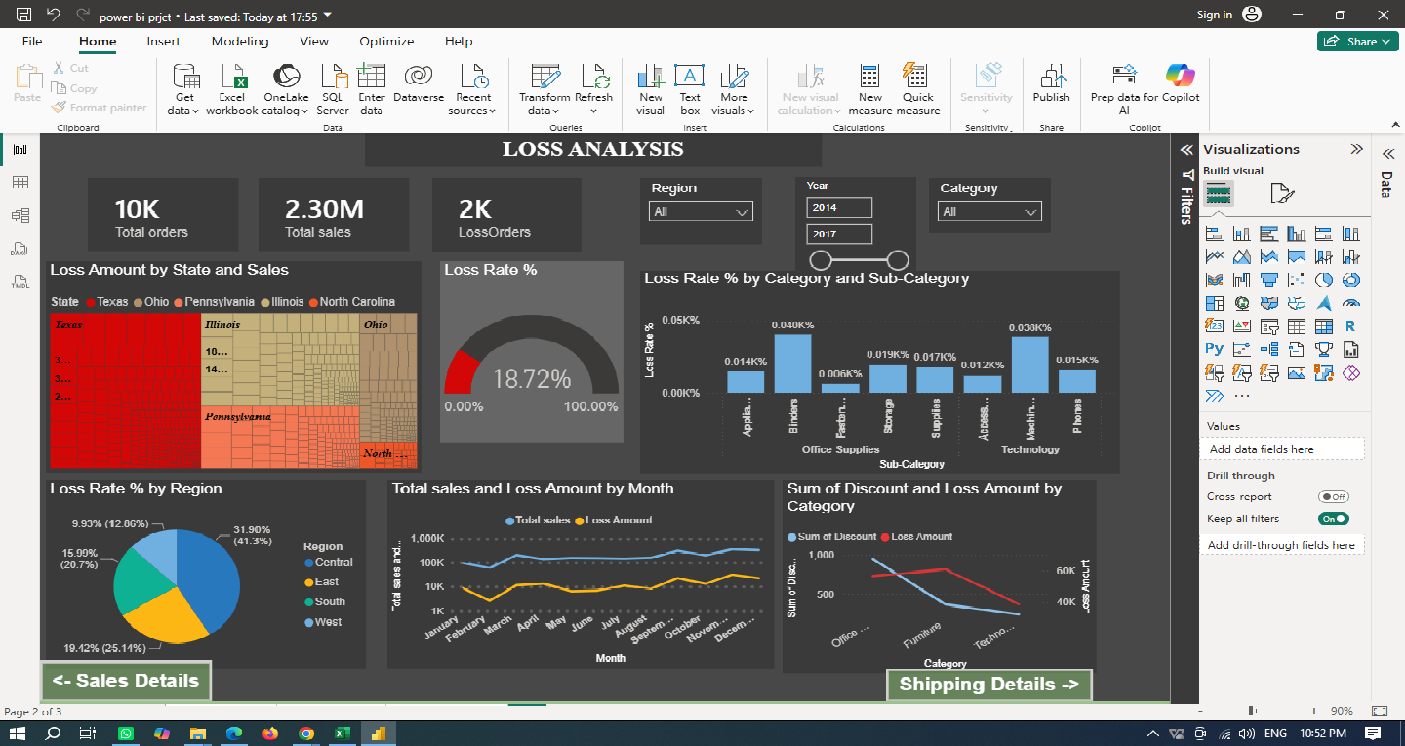

The dashboard page shown, as its layout file describes it:
{"tool":"powerbi","page":{"name":"Loss Analysis","canvas":[1280,720],"ordinal":1},"visuals":[{"type":"cardVisual","fields":{"Data":["Measure Table.Total orders"]},"box":[55,56.2,171.5,93.4],"z":0},{"type":"cardVisual","fields":{"Data":["Measure Table.Total sales"]},"box":[247.5,56.2,171.5,93.4],"z":1000},{"type":"cardVisual","fields":{"Data":["Measure Table.LossOrders"]},"box":[443.8,56.2,168.8,93.8],"z":2000},{"type":"clusteredColumnChart","fields":{"Category":["Cleared Data.Category","Cleared Data.Sub-Category"],"Y":["Measure Table.Loss Rate %"]},"box":[680,175,543.8,257.5],"z":3000},{"type":"treemap","fields":{"Group":["Cleared Data.State"],"Details":["Cleared Data.Sales"],"Values":["Measure Table.Loss Amount"]},"box":[6.2,163.8,425,267.5],"z":4000},{"type":"pieChart","fields":{"Category":["Cleared Data.Region"],"Y":["Measure Table.Loss Rate %"]},"box":[6.2,441.2,362.5,237.5],"z":5000},{"type":"lineChart","fields":{"Category":["Cleared Data.Order Date.Variation.Date Hierarchy.Month"],"Y":["Measure Table.Total sales","Measure Table.Loss Amount"]},"box":[393.8,441.2,437.5,237.5],"z":6000},{"type":"slicer","fields":{"Values":["Cleared Data.Year"]},"box":[855.5,56.1,136.4,118.6],"z":7000},{"type":"slicer","fields":{"Values":["Cleared Data.Category"]},"box":[1007.5,56.2,137.5,70],"z":8000},{"type":"slicer","fields":{"Values":["Cleared Data.Region"]},"box":[680,56.2,137.5,85],"z":9000},{"type":"textbox","box":[368.8,0,517.5,42.5],"z":10000},{"type":"lineChart","fields":{"Category":["Cleared Data.Category"],"Y":["Sum(Cleared Data.Discount)"],"Y2":["Measure Table.Loss Amount"]},"box":[841.2,441.2,356.2,243.8],"z":11000},{"type":"gauge","fields":{"Y":["Measure Table.Loss Rate %"]},"box":[452.6,163.2,207.8,229.5],"z":12000},{"type":"actionButton","box":[958.8,678.8,235,41.2],"z":13000},{"type":"actionButton","box":[0,668.8,195,51.2],"z":14000}]}

Visuals, with their boxes on the page's 1280x720 design canvas (x1, y1, x2, y2). These are canvas units, not pixel positions in the 1405x746 screenshot, which may show the page scaled, cropped or inside an application window:
cardVisual - Measure Table.Total orders: 55, 56, 226, 150
cardVisual - Measure Table.Total sales: 248, 56, 419, 150
cardVisual - Measure Table.LossOrders: 444, 56, 613, 150
clusteredColumnChart - Cleared Data.Category x Cleared Data.Sub-Category: 680, 175, 1224, 432
treemap - Cleared Data.State x Cleared Data.Sales: 6, 164, 431, 431
pieChart - Cleared Data.Region x Measure Table.Loss Rate %: 6, 441, 369, 679
lineChart - Cleared Data.Order Date.Variation.Date Hierarchy.Month x Measure Table.Total sales: 394, 441, 831, 679
slicer - Cleared Data.Year: 856, 56, 992, 175
slicer - Cleared Data.Category: 1008, 56, 1145, 126
slicer - Cleared Data.Region: 680, 56, 818, 141
textbox: 369, 0, 886, 42
lineChart - Cleared Data.Category x Sum(Cleared Data.Discount): 841, 441, 1197, 685
gauge - Measure Table.Loss Rate %: 453, 163, 660, 393
actionButton: 959, 679, 1194, 720
actionButton: 0, 669, 195, 720
